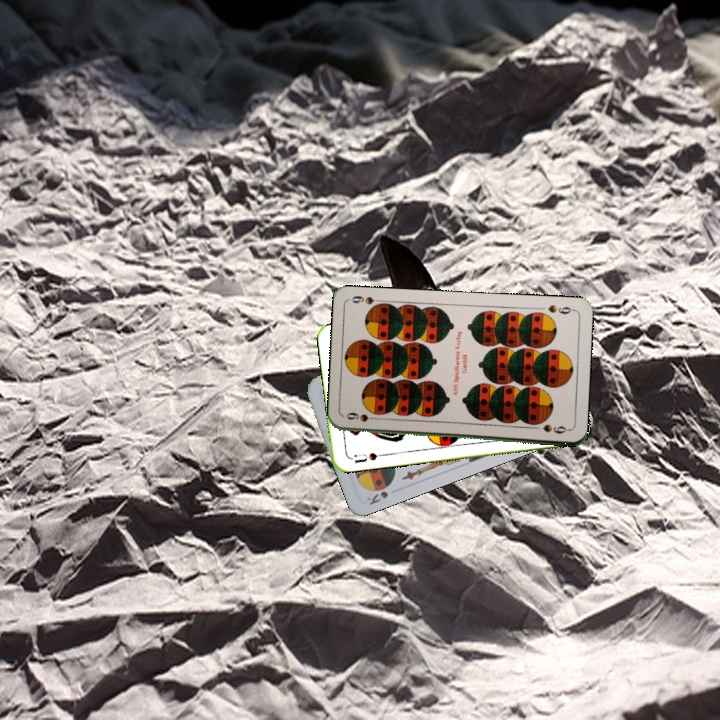S9: (342, 410, 383, 424), (544, 301, 577, 317)
SK: (365, 480, 394, 508)
SU: (350, 449, 387, 466)
